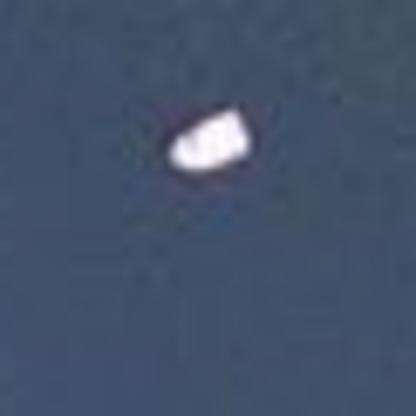ship: (154, 98, 268, 182)
